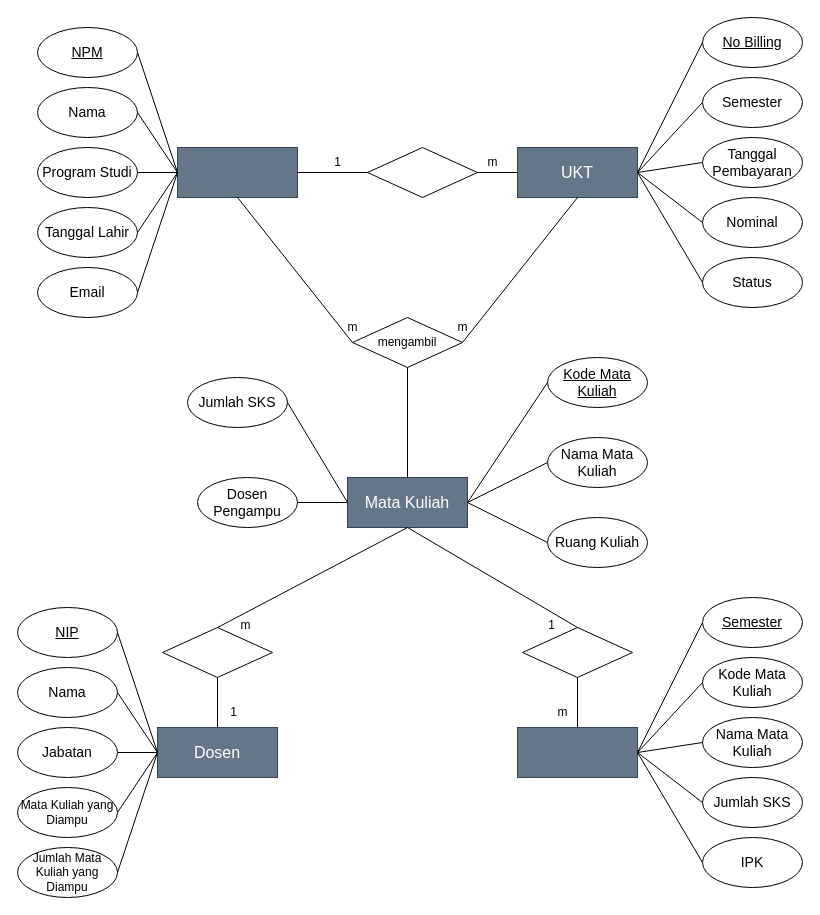
Some shapes in this 820 by 915 pixel diagram are drawn without their labels. Each missing label, with the centre of its shape:
KHS: [577,752]
Mahasiswa: [237,172]
membayar: [422,172]
memiliki: [577,652]
mengajar: [217,652]
